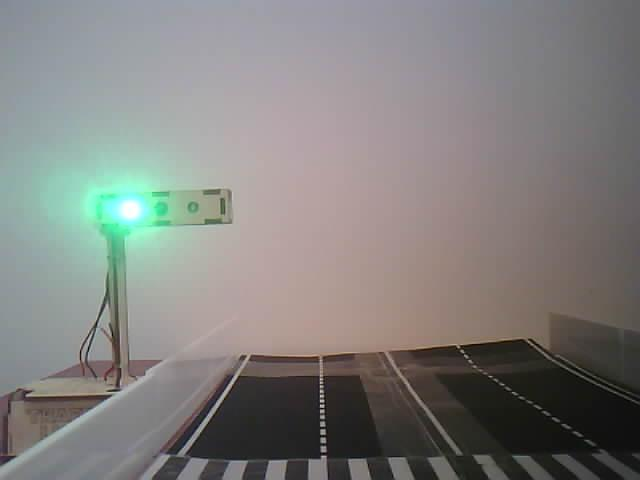crosswalk: (117, 444, 639, 480)
green: (75, 162, 225, 356)
